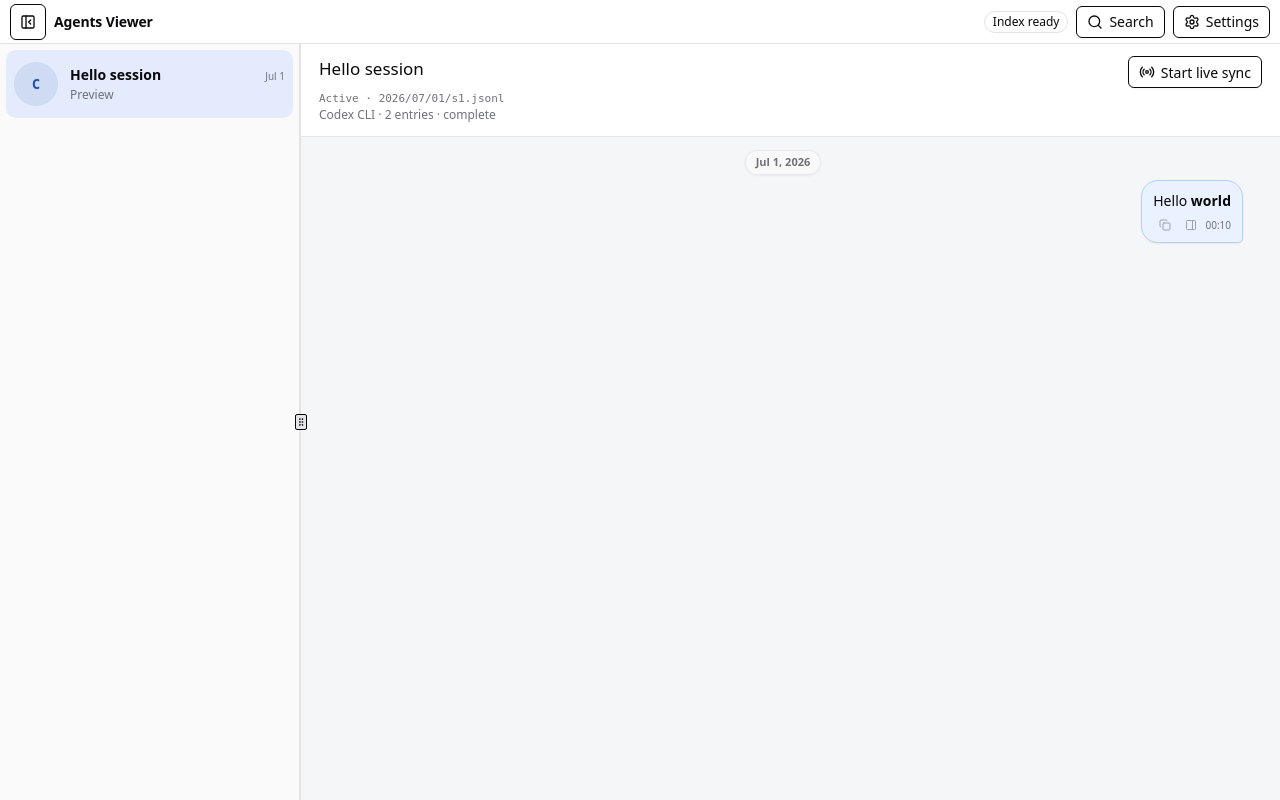
Test: Agents Viewer UI › uses the new display defaults instead of the legacy technical preference
The image size is (1280, 800).
Expected: the heading "Hello session" is shown, [319,56,424,82]
Click the button "Settings" at (1221, 22), box [1173,6,1270,38]
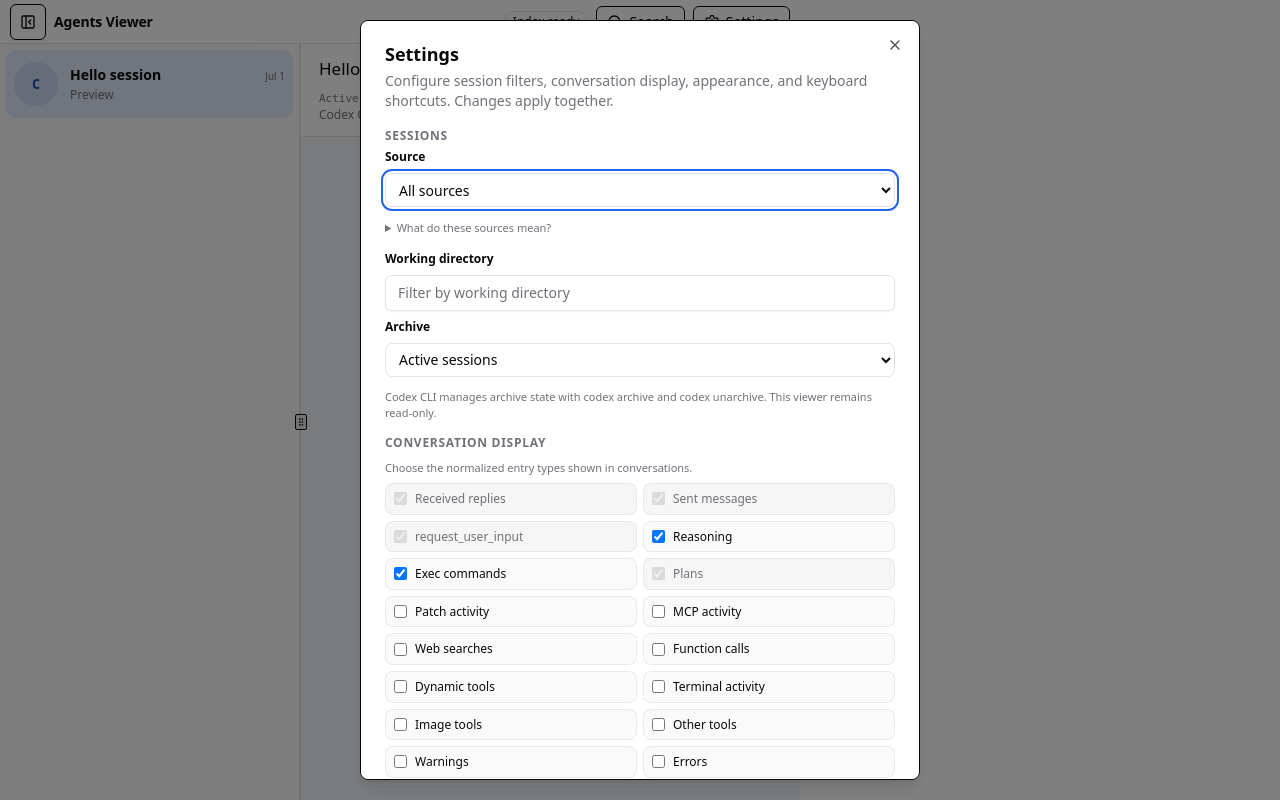
Result: the checkbox labelled "Reasoning" is checked at [652,530,665,543]
Result: the checkbox labelled "Exec commands" is checked at [394,568,407,580]
Result: the checkbox labelled "Patch activity" is not checked at [394,605,407,618]
